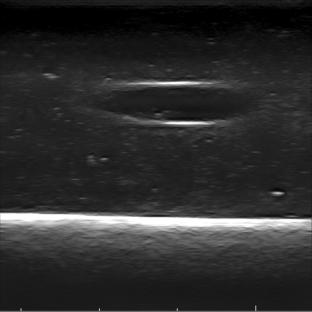vessel: (102, 80, 250, 126)
